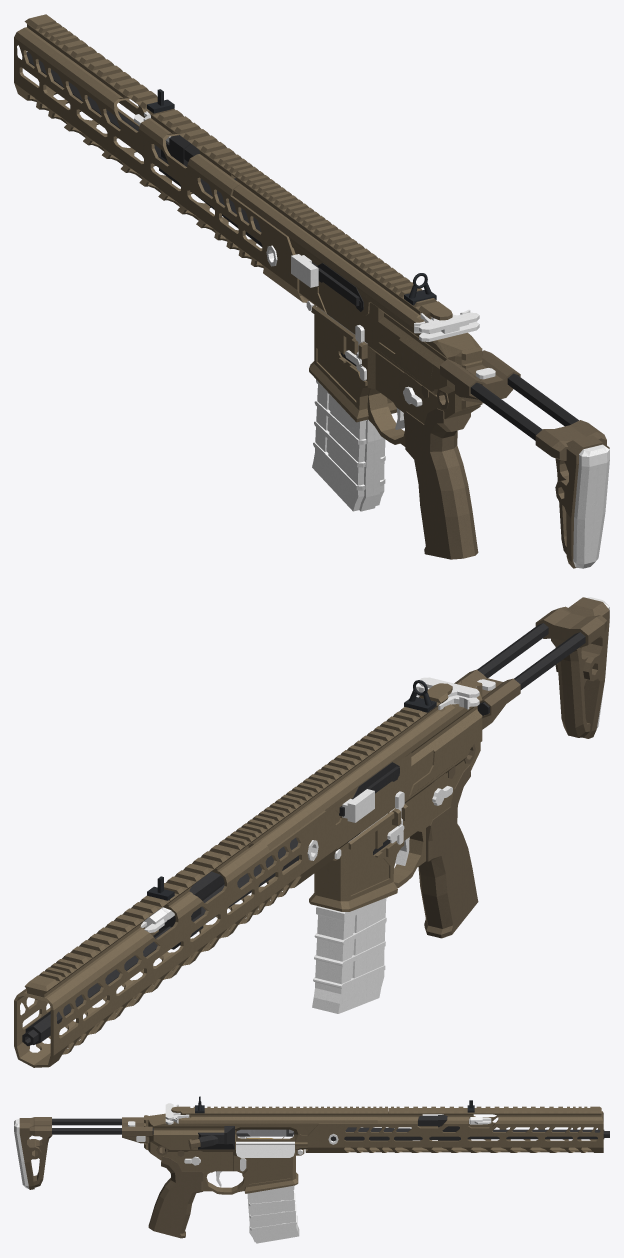
3 renders of one model, top to bottom at view 1: azimuth 30°, elevation 25°; view 2: azimuth 150°, elevation 25°; view 3: azimuth 270°, elevation 25°, orthographic. The views are drawn at different scales.
Parts seen in each view (by area): view 1: body, mag, charge; view 2: body, mag, charge; view 3: body, mag, boltCarrier, charge.
Part boxes in pixels (x1,y1,x2,y2): body: (14,14,609,568); mag: (312,310,385,511); charge: (414,309,479,341); body: (14,597,609,1067); mag: (312,813,387,1013); charge: (413,677,479,709); body: (14,1100,609,1238); mag: (246,1136,299,1243); boltCarrier: (236,1129,294,1136); charge: (165,1103,189,1124).
Size of the model in its own units: 0.0717 by 0.2662 by 1.
Materials: 9 (9 with a texture image).
